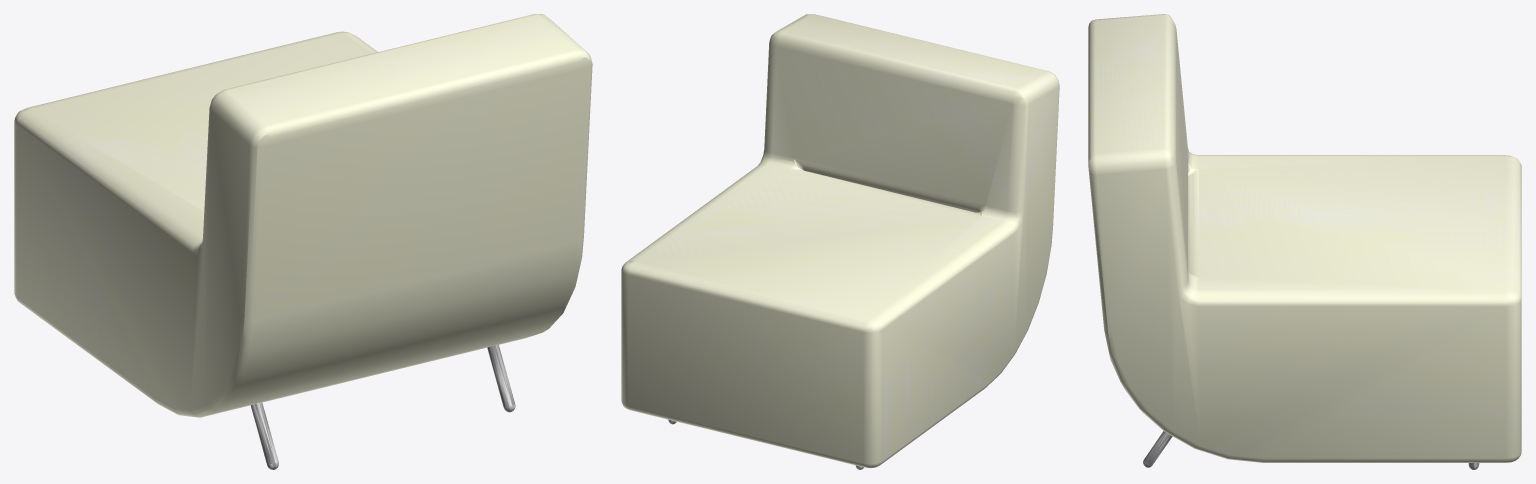
3 renders of one model, left to right at view 1: azimuth 30°, elevation 25°; view 2: azimuth 150°, elevation 25°; view 3: azimuth 270°, elevation 25°, orthographic. The views are drawn at different scales.
Visible parts, largest first — view 1: mesh5_mesh5-geometry, mesh1_mesh1-geometry, mesh3_mesh3-geometry; view 2: mesh5_mesh5-geometry; view 3: mesh5_mesh5-geometry.
Part boxes in pixels (box(x1,y1,x2,y2)): mesh5_mesh5-geometry: box(14, 14, 592, 417); mesh1_mesh1-geometry: box(487, 344, 515, 412); mesh3_mesh3-geometry: box(250, 402, 278, 469); mesh5_mesh5-geometry: box(621, 14, 1059, 468); mesh5_mesh5-geometry: box(1088, 14, 1521, 462).
Size of the model in its own units: 0.5196 by 0.554 by 0.6505.
3 materials, 1 textured.
